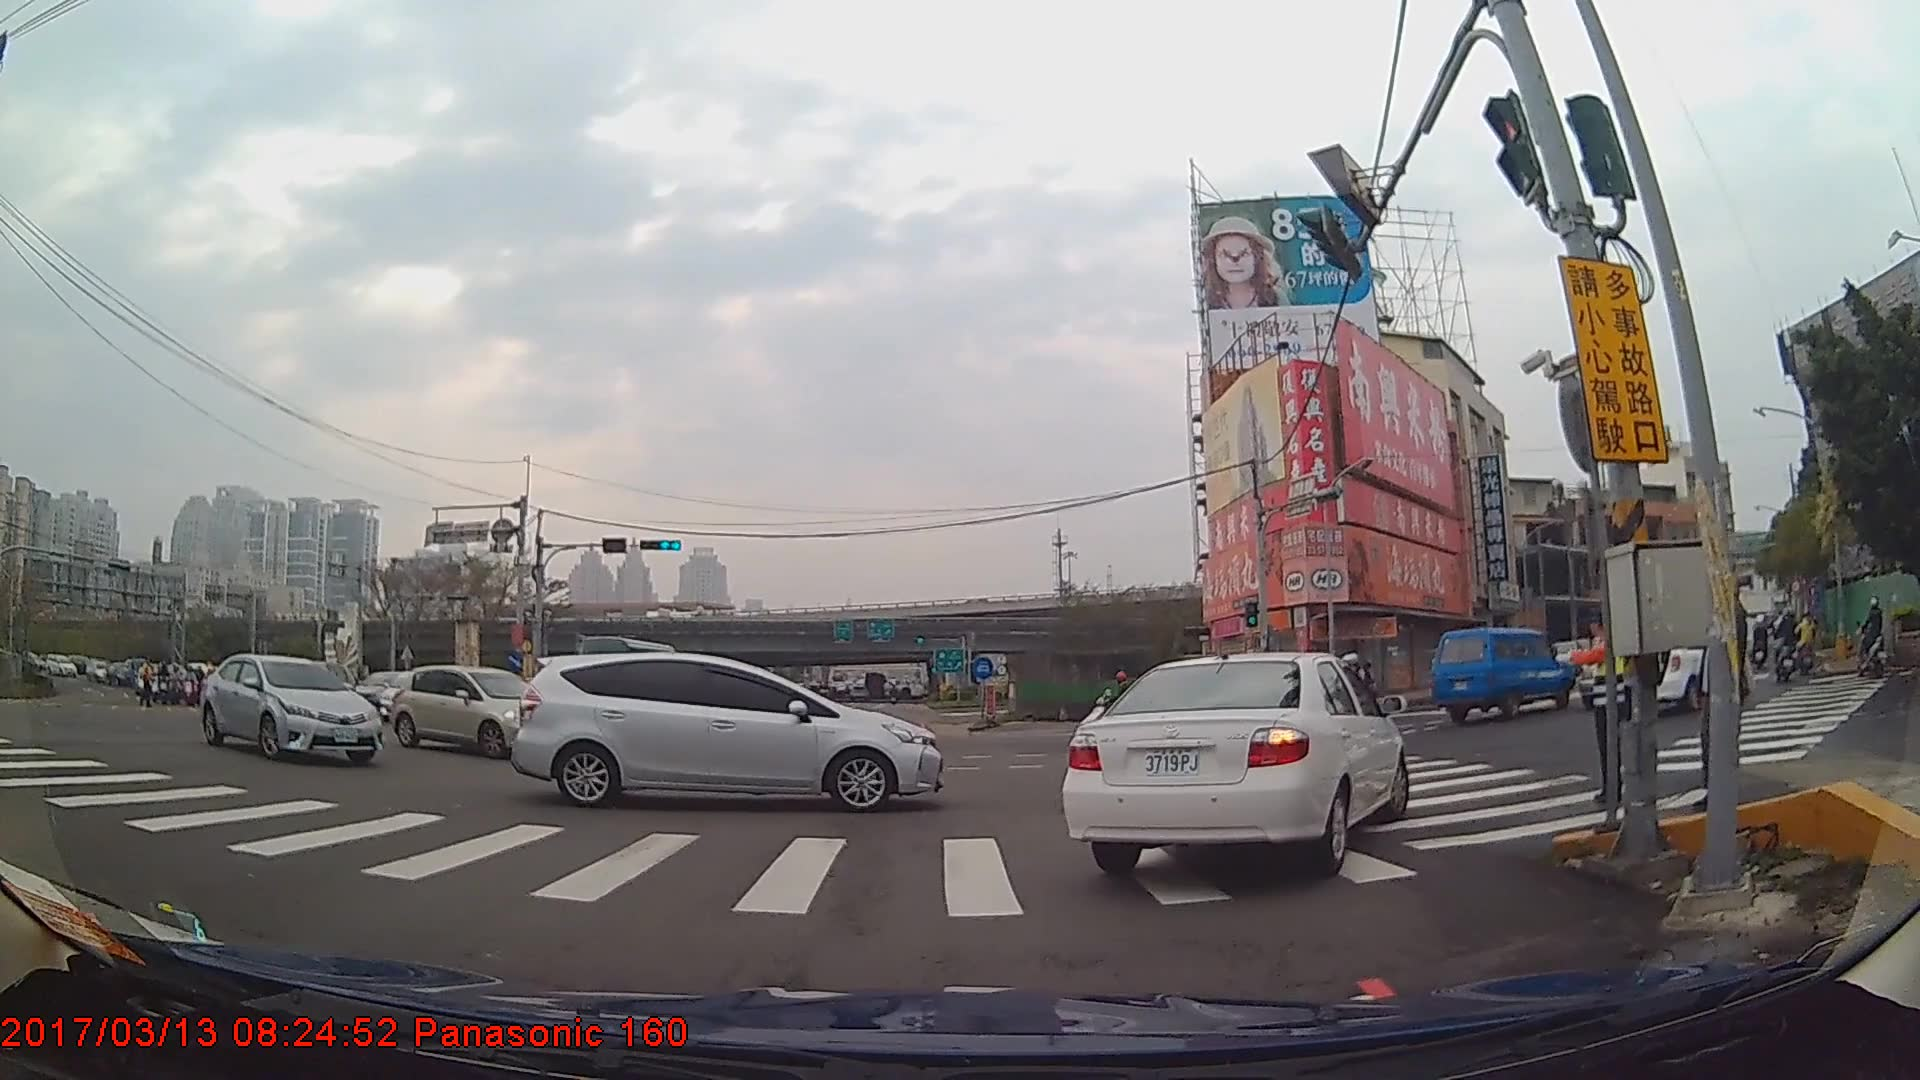pedestrian: (1671, 552, 1754, 823)
rider: (1074, 669, 1160, 754), (1851, 592, 1889, 681), (1774, 605, 1802, 683), (1794, 606, 1817, 681), (1751, 613, 1771, 671)
vehicle: (1065, 645, 1409, 873), (507, 651, 938, 814), (198, 652, 384, 767), (391, 662, 553, 756), (1425, 625, 1571, 720)
